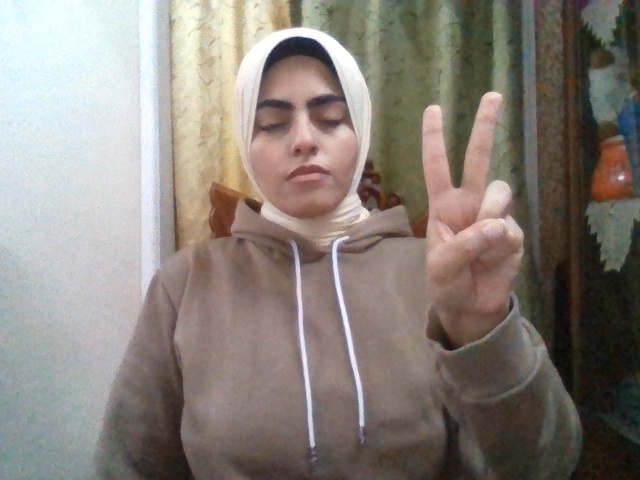V: (422, 91, 524, 318)
